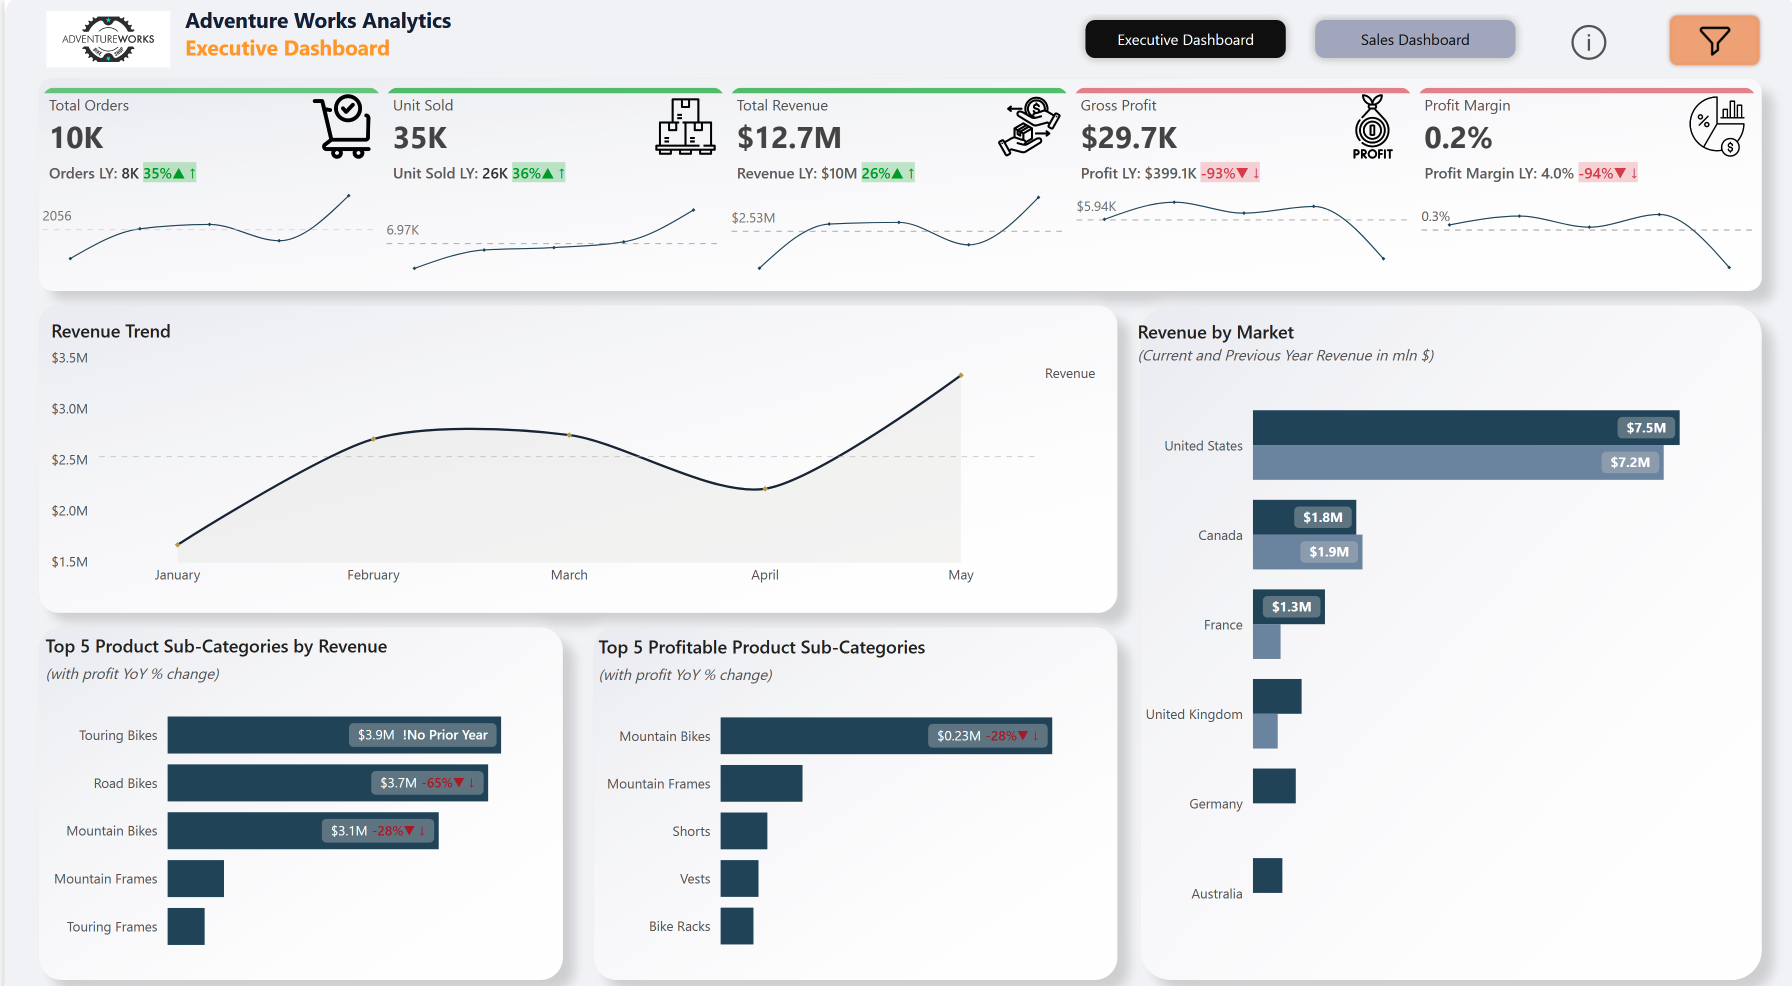

The page's visual inventory and layout, read from the dashboard file:
{"tool":"powerbi","page":{"name":"Executive Dashboard","canvas":[1600,900],"ordinal":0},"visuals":[{"type":"group","id":"g1","title":"KPI Charts","box":[27.1,74.3,1544.2,180.7],"z":0},{"type":"cardVisual","title":"KPI Card","fields":{"Data":["Key Metrics.orders","Key Metrics.unit_sold","Key Metrics.gross_sales","Key Metrics.gross_profit","Key Metrics.profit_margin %"]},"box":[27.1,74.3,1544.2,180.7],"z":0,"group":"g1"},{"type":"lineChart","title":"MonthlyOrderTrend","fields":{"Category":["dim_date.Date.Variation.Date Hierarchy.Month"],"Y":["Key Metrics.orders"]},"box":[34.4,161,298.3,86.7],"z":1000,"group":"g1"},{"type":"clusteredBarChart","title":"Revenue by Market","fields":{"Category":["dim_region.country"],"Y":["Key Metrics.gross_sales","Key Metrics.gross_sales_LY"]},"box":[1012,285.3,532,577.3],"z":1000},{"type":"lineChart","fields":{"Y":["Key Metrics.unit_sold"],"Category":["dim_date.Date.Variation.Date Hierarchy.Month"]},"box":[341.7,161.6,299,86],"z":2000,"group":"g1"},{"type":"lineChart","title":"Revenue Trend","fields":{"Category":["dim_date.Date.Variation.Date Hierarchy.Month"],"Y":["Key Metrics.gross_sales"]},"box":[36.7,285,943.3,242.4],"z":2000},{"type":"lineChart","fields":{"Category":["dim_date.Date.Variation.Date Hierarchy.Month"],"Y":["Key Metrics.gross_sales"]},"box":[649.7,161.6,299,86],"z":3000,"group":"g1"},{"type":"clusteredBarChart","title":"Top 5 Product Sub-Categories by Revenue","fields":{"Category":["dim_product.subcategory"],"Y":["Key Metrics.gross_sales"]},"box":[36.7,565.7,449.6,296.8],"z":3000},{"type":"lineChart","fields":{"Category":["dim_date.Date.Variation.Date Hierarchy.Month"],"Y":["Key Metrics.gross_profit"]},"box":[957.7,161.6,299,86],"z":4000,"group":"g1"},{"type":"clusteredBarChart","title":"Top 5 Profitable Product Sub-Categories","fields":{"Category":["dim_product.subcategory"],"Y":["Key Metrics.gross_profit"]},"box":[530.4,567.1,449.6,295.3],"z":4000},{"type":"textbox","box":[156,1.3,334.7,64],"z":5000},{"type":"lineChart","fields":{"Category":["dim_date.Date.Variation.Date Hierarchy.Month"],"Y":["Key Metrics.profit_margin %"]},"box":[1265.7,161,299.7,86.7],"z":5000,"group":"g1"},{"type":"pageNavigator","box":[957.3,10.7,400,50.7],"z":6000},{"type":"actionButton","title":"Show Button","box":[1482.7,10.7,88,53.3],"z":9000},{"type":"actionButton","title":"Info Button","box":[1385.3,13.3,60,50.7],"z":10000,"group":"g2"},{"type":"group","id":"g2","title":"Info Group","box":[1157.3,13.3,290.7,180],"z":11001},{"type":"image","box":[37.3,10.7,110.7,50.7],"z":11002}]}

Visuals, with their boxes in screenshot pixels (x1, y1, x2, y2), scaled from the page's 1600x900 canvas onto the 1792x986 screenshot:
"KPI Charts" group: pyautogui.locateOnScreen(30, 81, 1760, 279)
"KPI Card" cardVisual: pyautogui.locateOnScreen(30, 81, 1760, 279)
"MonthlyOrderTrend" lineChart: pyautogui.locateOnScreen(39, 176, 373, 271)
"Revenue by Market" clusteredBarChart: pyautogui.locateOnScreen(1133, 313, 1729, 945)
lineChart - Key Metrics.unit_sold x dim_date.Date.Variation.Date Hierarchy.Month: pyautogui.locateOnScreen(383, 177, 718, 271)
"Revenue Trend" lineChart: pyautogui.locateOnScreen(41, 312, 1098, 578)
lineChart - dim_date.Date.Variation.Date Hierarchy.Month x Key Metrics.gross_sales: pyautogui.locateOnScreen(728, 177, 1063, 271)
"Top 5 Product Sub-Categories by Revenue" clusteredBarChart: pyautogui.locateOnScreen(41, 620, 545, 945)
lineChart - dim_date.Date.Variation.Date Hierarchy.Month x Key Metrics.gross_profit: pyautogui.locateOnScreen(1073, 177, 1408, 271)
"Top 5 Profitable Product Sub-Categories" clusteredBarChart: pyautogui.locateOnScreen(594, 621, 1098, 945)
textbox: pyautogui.locateOnScreen(175, 1, 550, 72)
lineChart - dim_date.Date.Variation.Date Hierarchy.Month x Key Metrics.profit_margin %: pyautogui.locateOnScreen(1418, 176, 1753, 271)
pageNavigator: pyautogui.locateOnScreen(1072, 12, 1520, 67)
"Show Button" actionButton: pyautogui.locateOnScreen(1661, 12, 1759, 70)
"Info Button" actionButton: pyautogui.locateOnScreen(1552, 15, 1619, 70)
"Info Group" group: pyautogui.locateOnScreen(1296, 15, 1622, 212)
image: pyautogui.locateOnScreen(42, 12, 166, 67)
